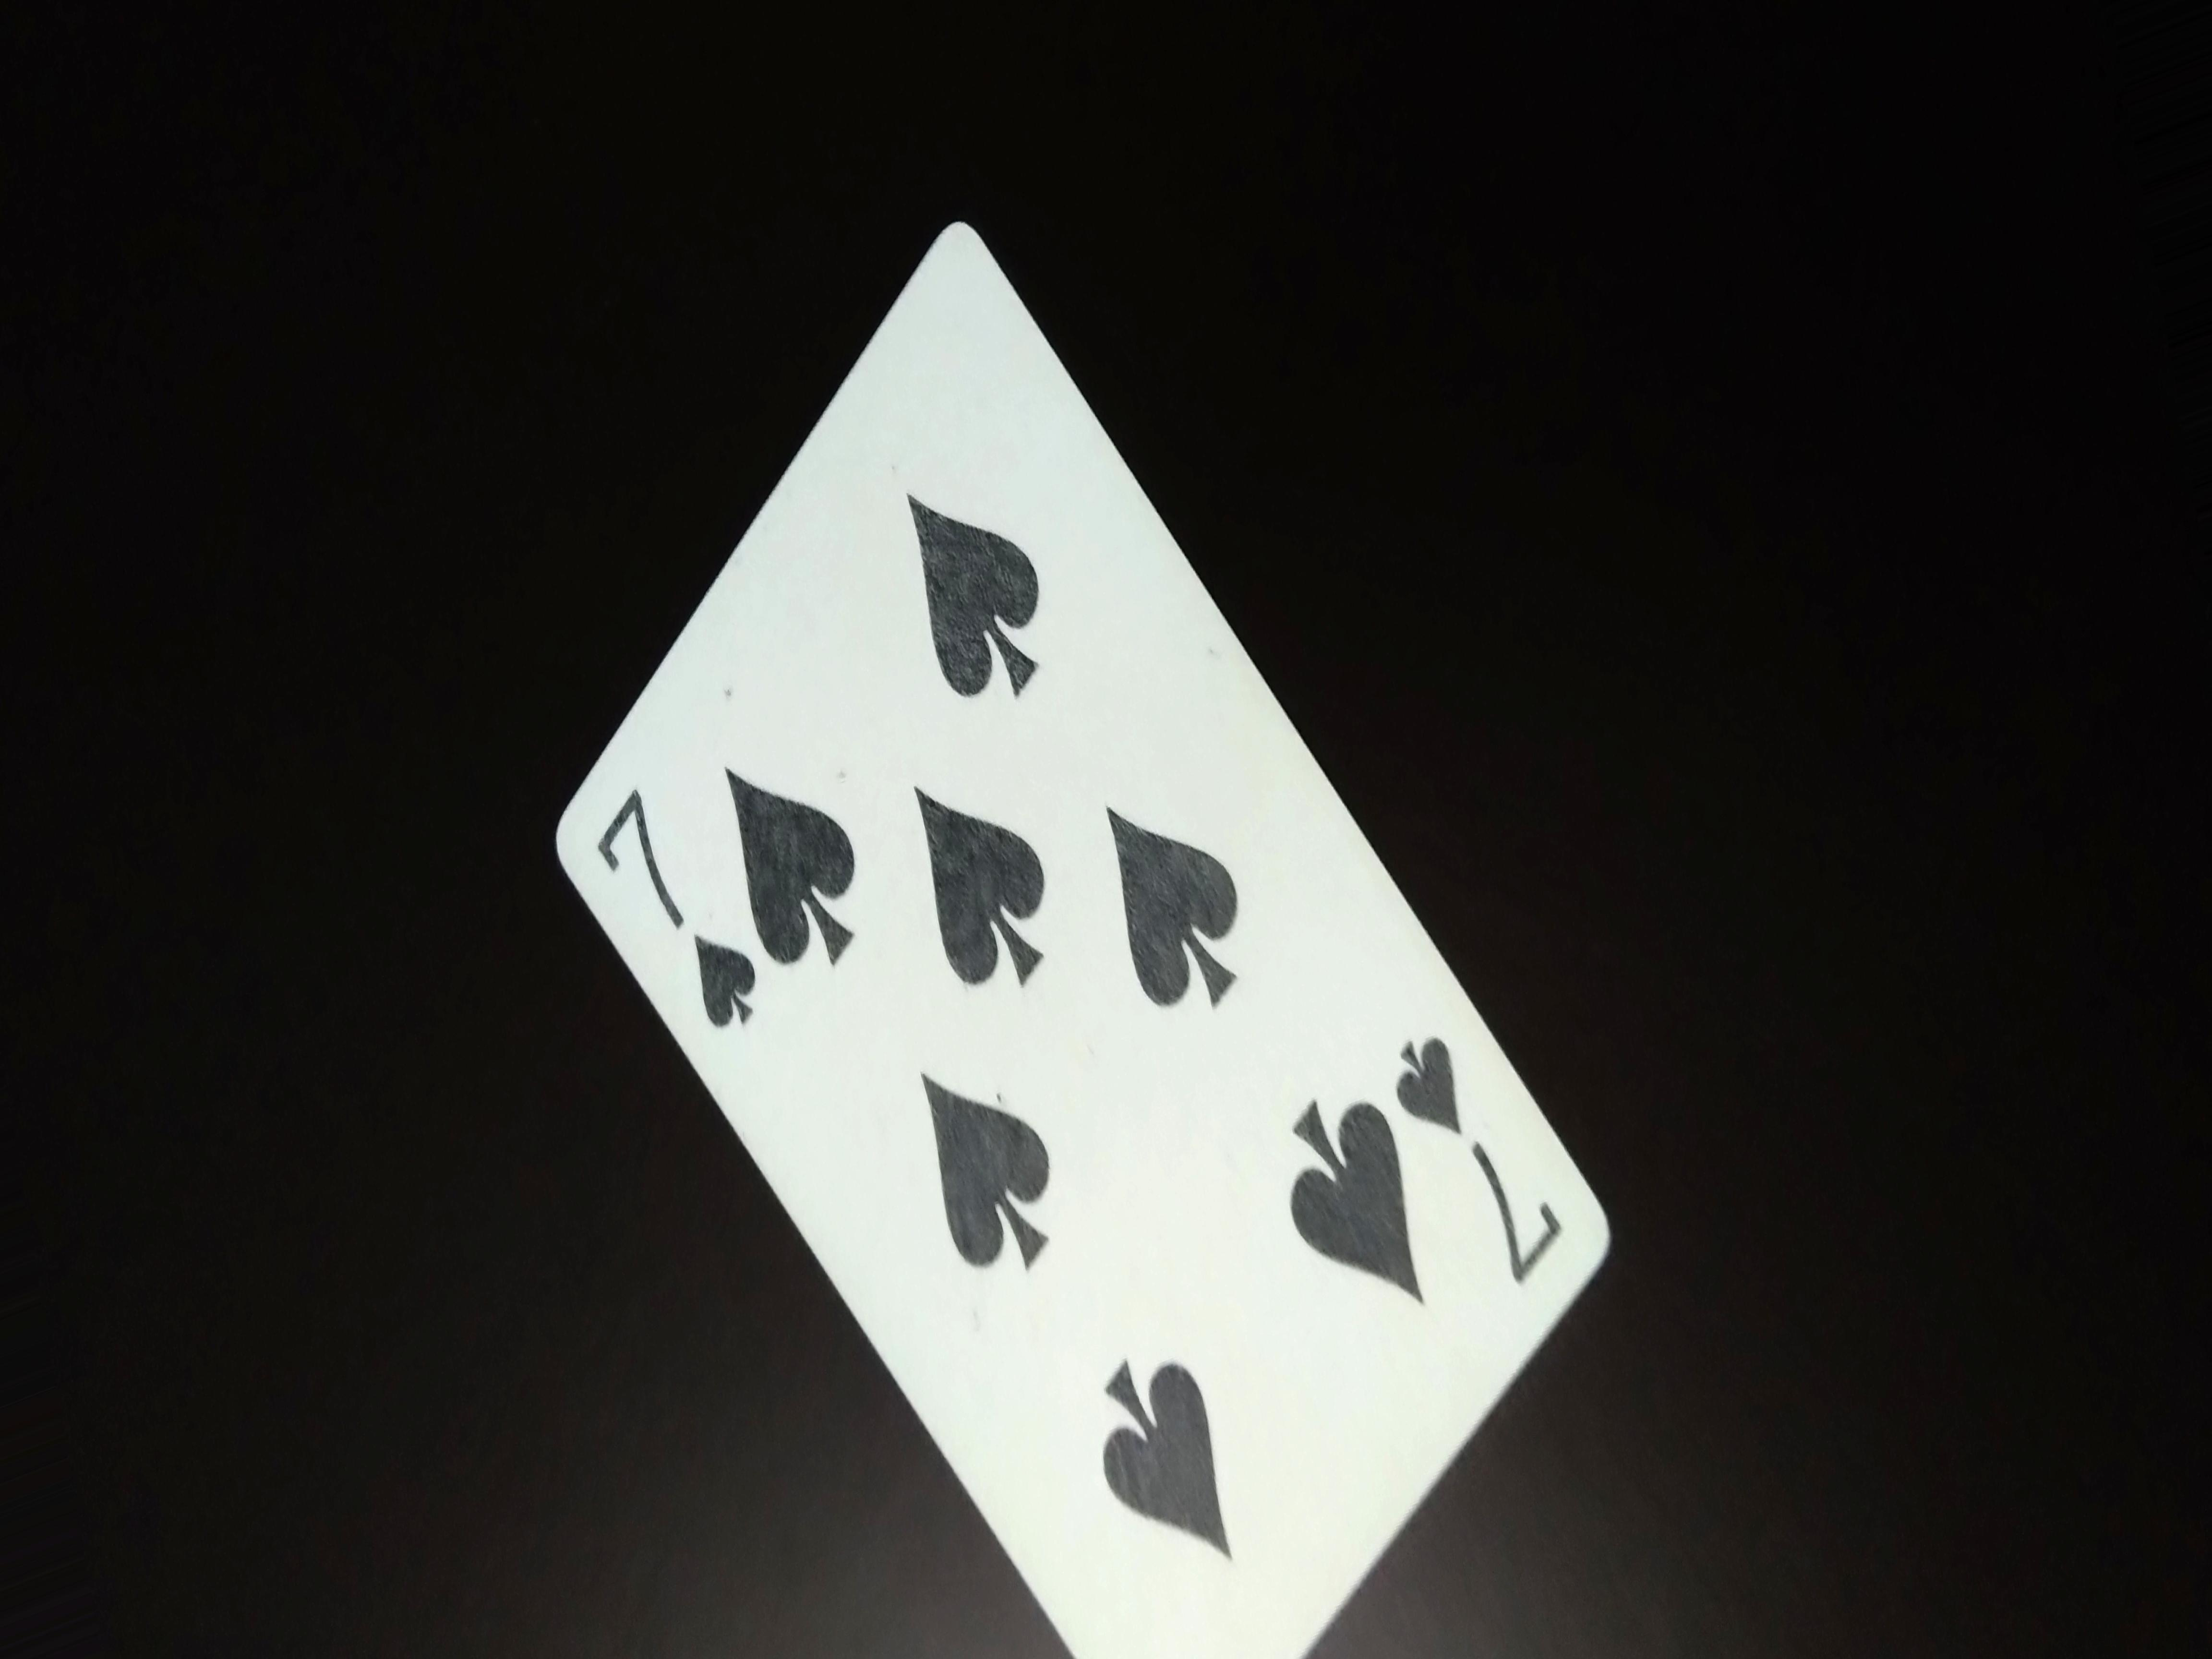7S: (582, 782, 763, 1039)
